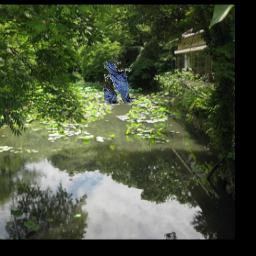Crow: (104, 60, 136, 105)
